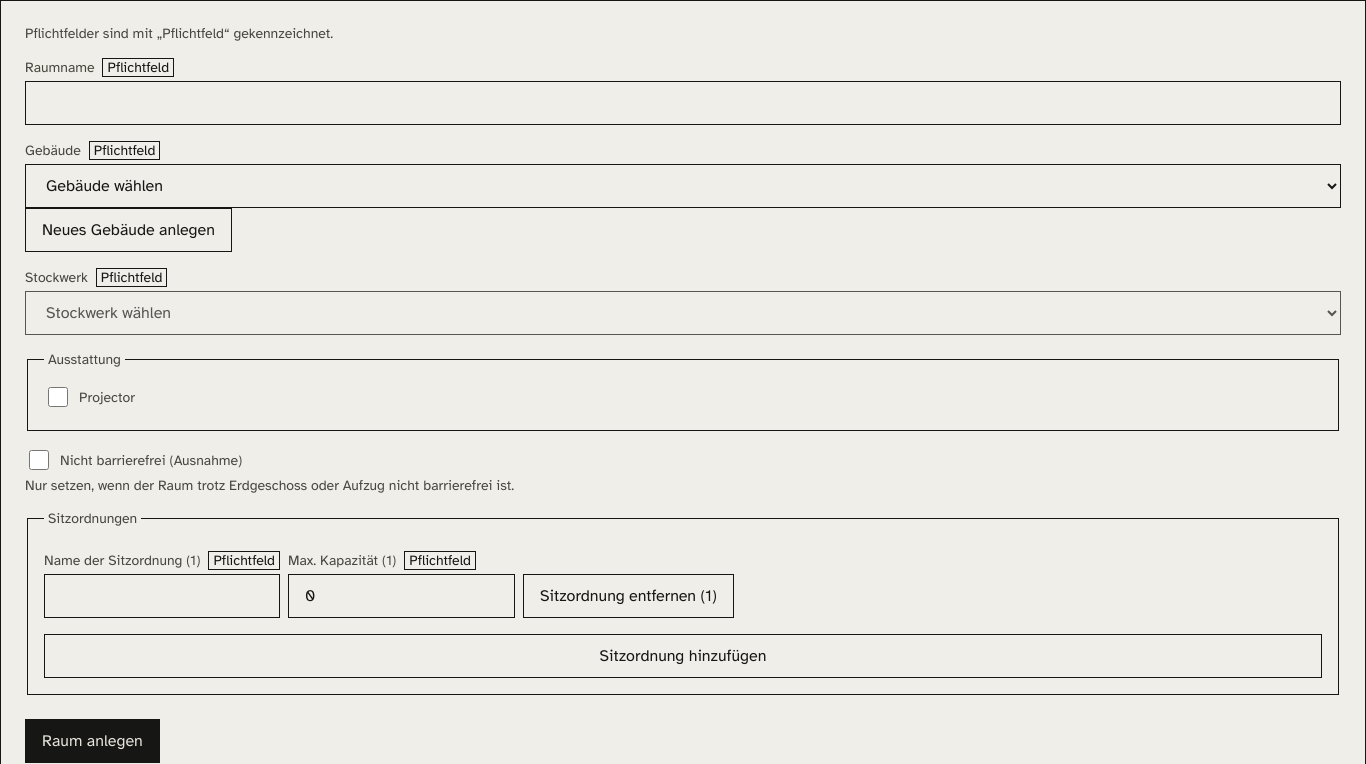
Test: RoomForm (create mode) › shows a validation error and does not submit when there is no seating arrangement
Type "Room 101" into the field labelled "Raumname" at point(683, 103), box left=25, top=81, right=1341, bottom=125
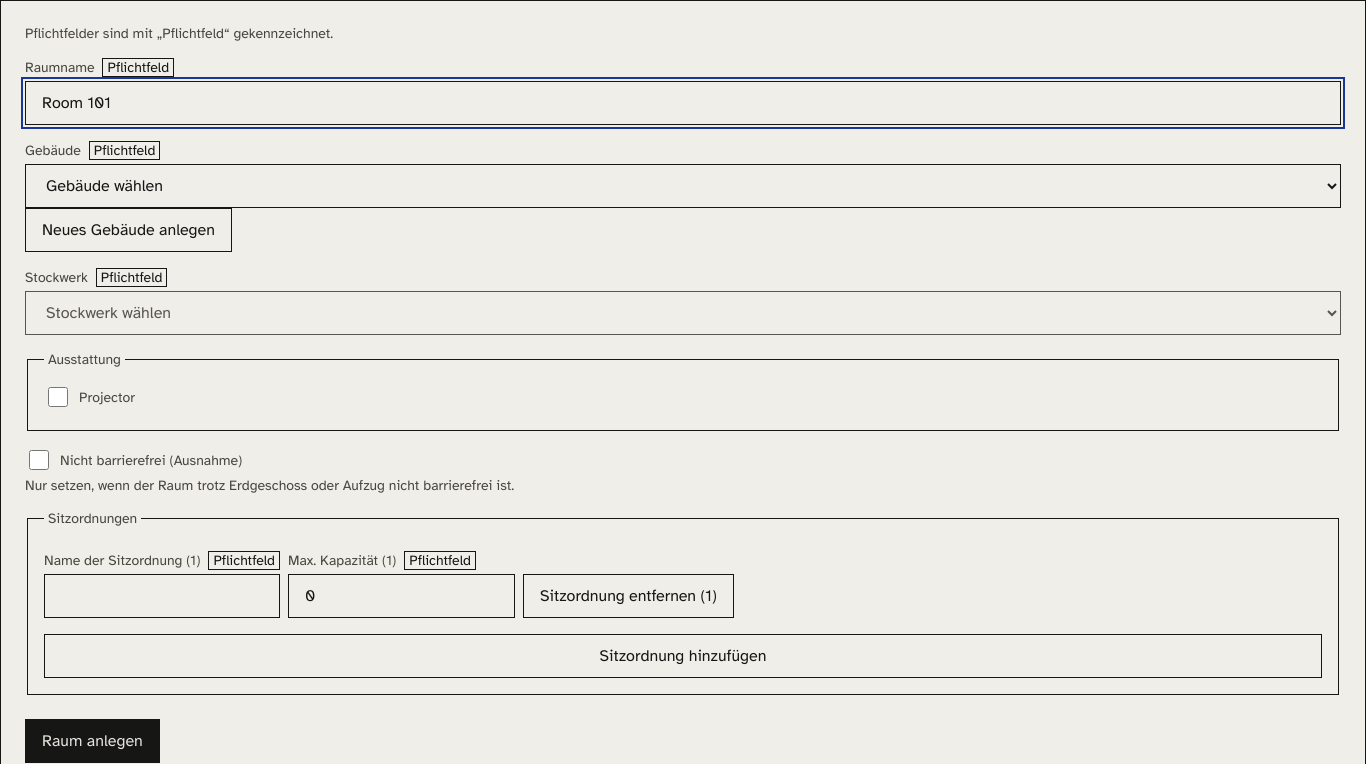
Select "Main" in the dropdown labelled "Gebäude" at point(683, 186), box left=25, top=164, right=1341, bottom=208
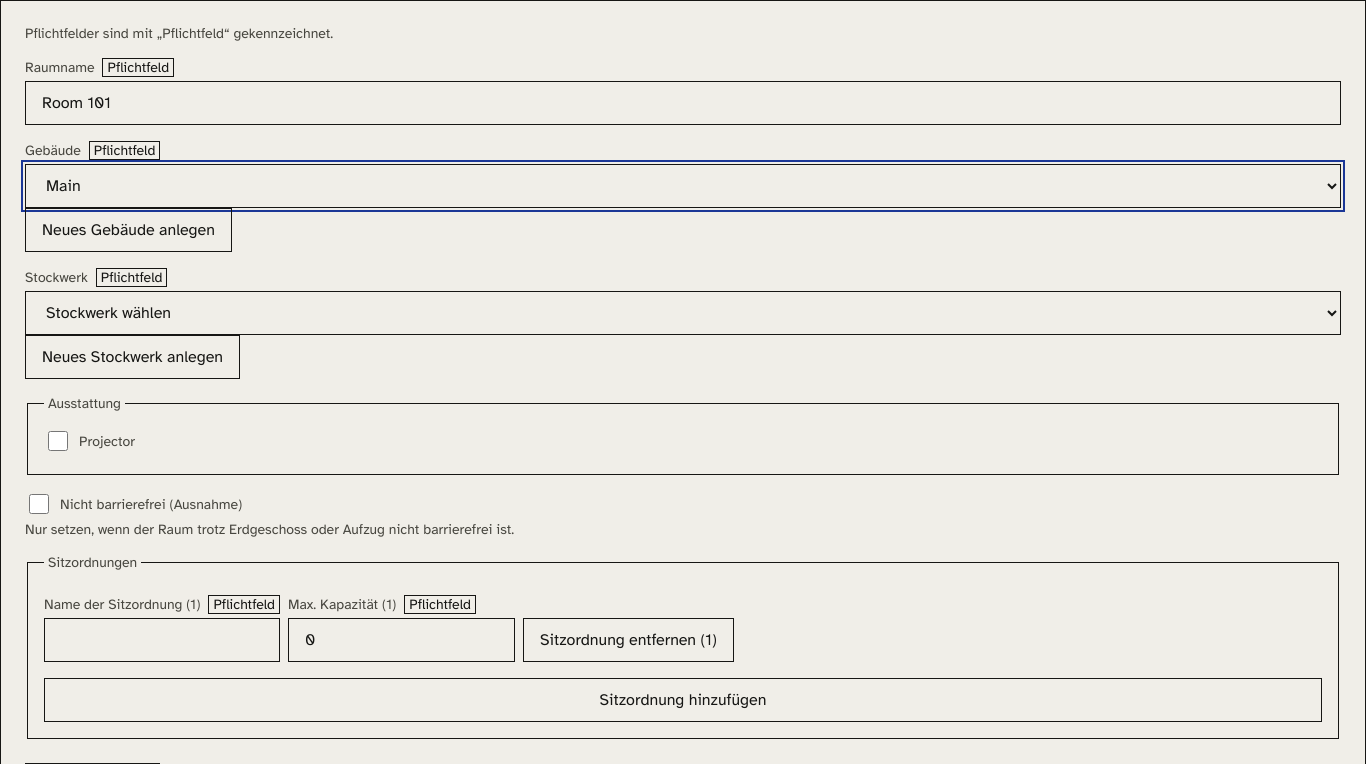
Select "1" in the dropdown labelled "Stockwerk" at point(683, 313), box left=25, top=291, right=1341, bottom=335
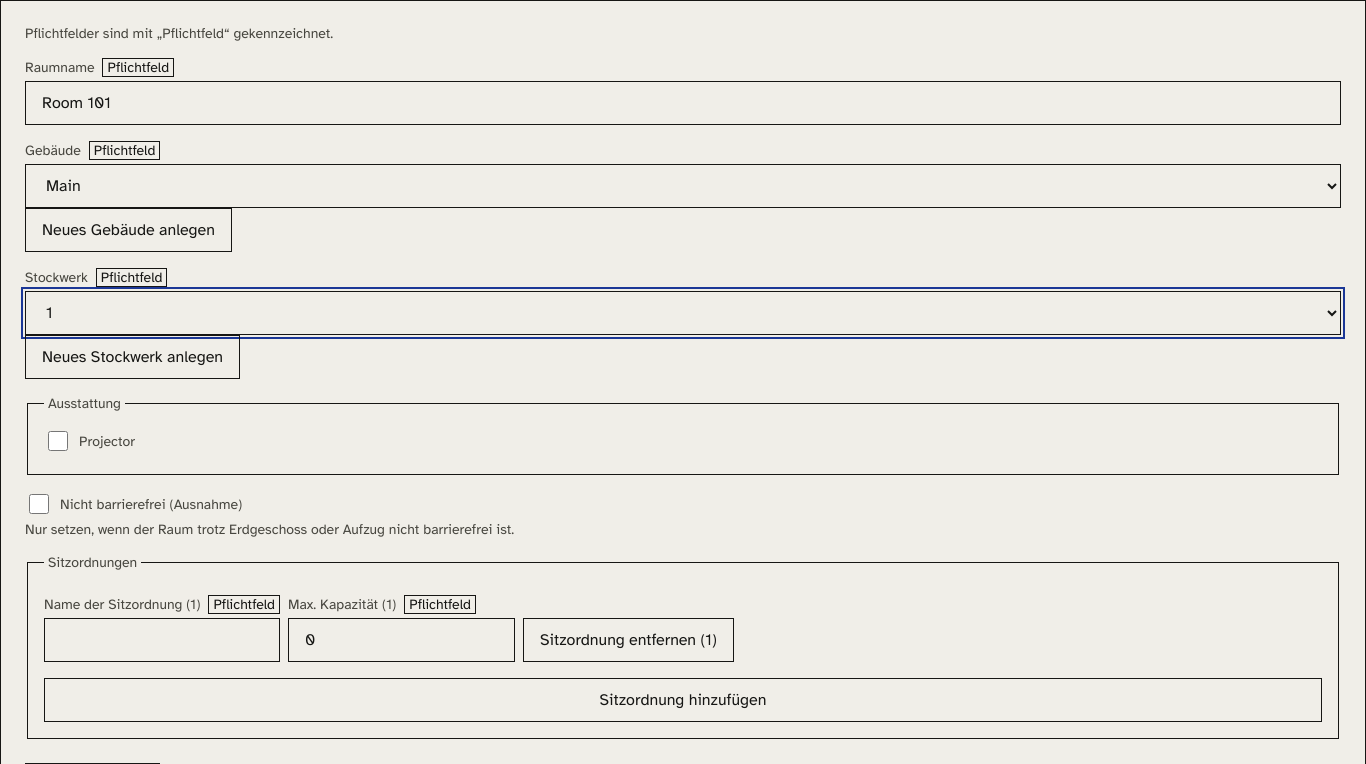
Click the button "Sitzordnung entfernen (1)" at point(628, 640), box left=523, top=618, right=734, bottom=662
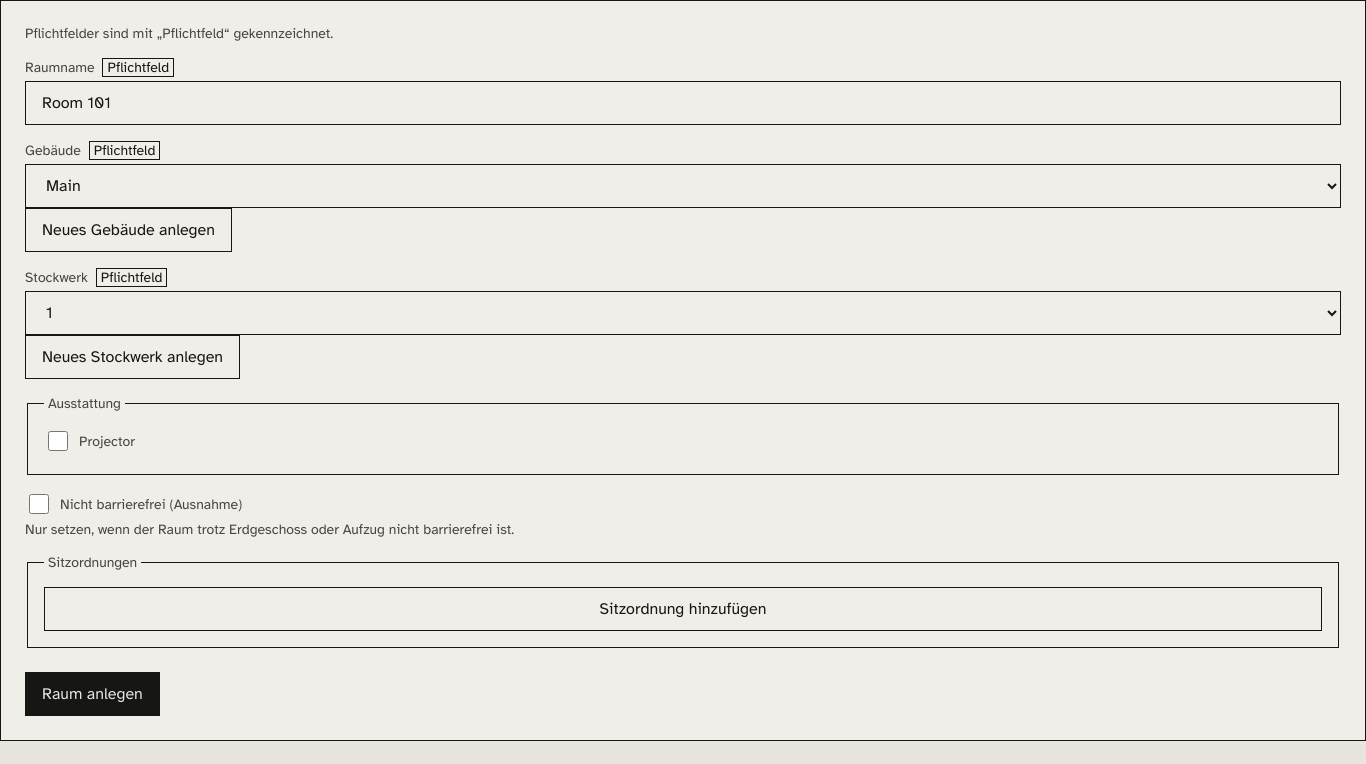
Click the button "Raum anlegen" at point(92, 694), box left=25, top=672, right=160, bottom=716
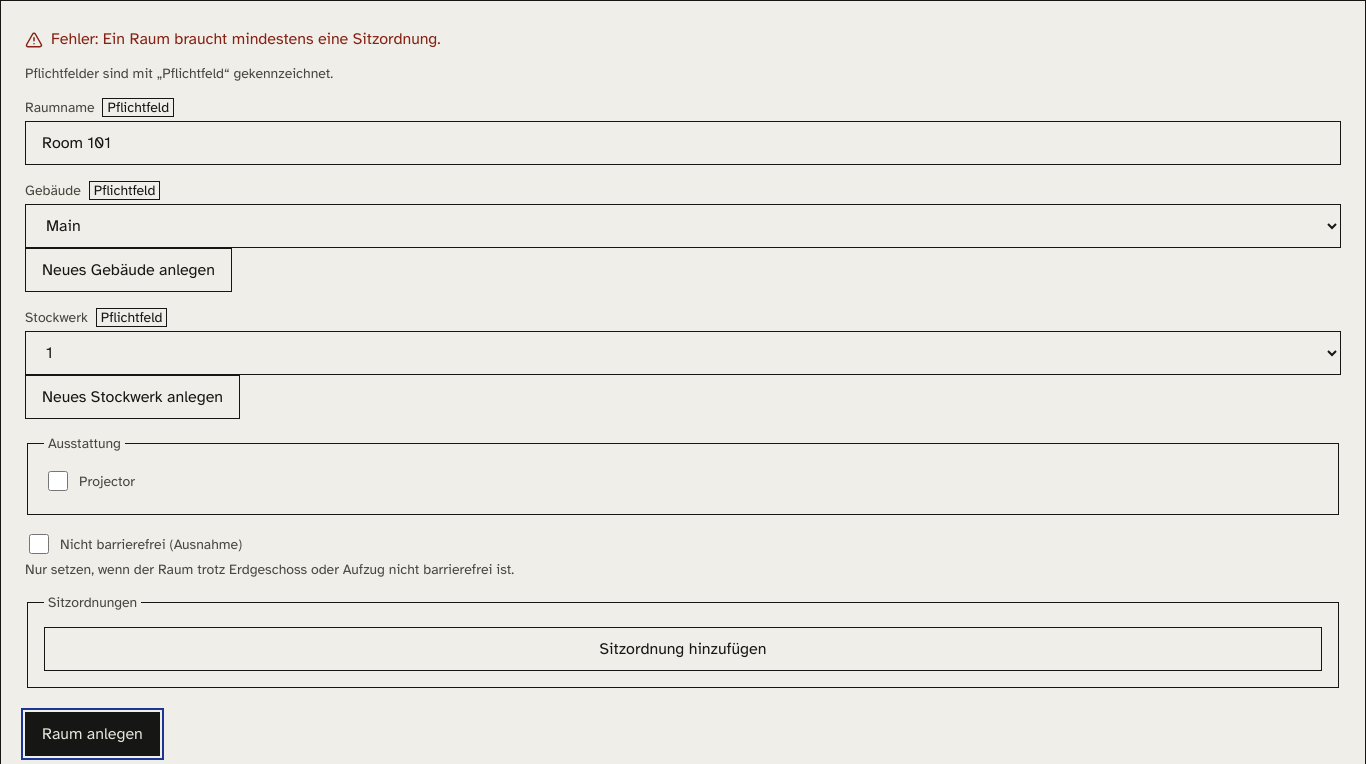
Check: the text "Fehler: Ein Raum braucht mindestens eine Sitzordnung." is shown, box left=51, top=29, right=441, bottom=49
Check: the message shows "Fehler:", box left=51, top=29, right=98, bottom=49
Check: the message shows "mindestens eine Sitzordnung", box left=103, top=29, right=441, bottom=49
